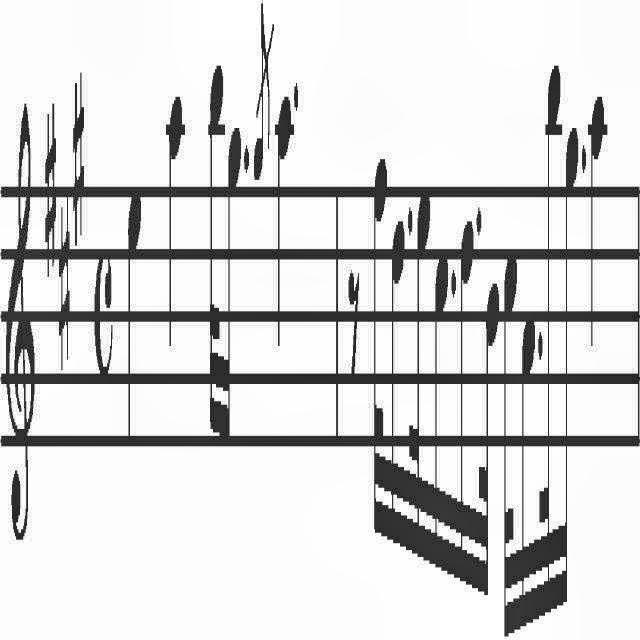Bass-clef: (4, 49, 40, 592)
Diez: (58, 186, 74, 378), (70, 68, 86, 252), (43, 86, 57, 294)
Eighth-rest: (348, 235, 364, 412)
Quarter-note: (590, 78, 610, 362), (125, 170, 144, 460), (274, 89, 294, 364), (166, 68, 184, 368)
Sixteenth-note: (564, 116, 580, 606), (458, 212, 476, 594), (390, 203, 406, 562), (226, 118, 242, 448), (520, 302, 536, 630), (434, 240, 448, 596)
